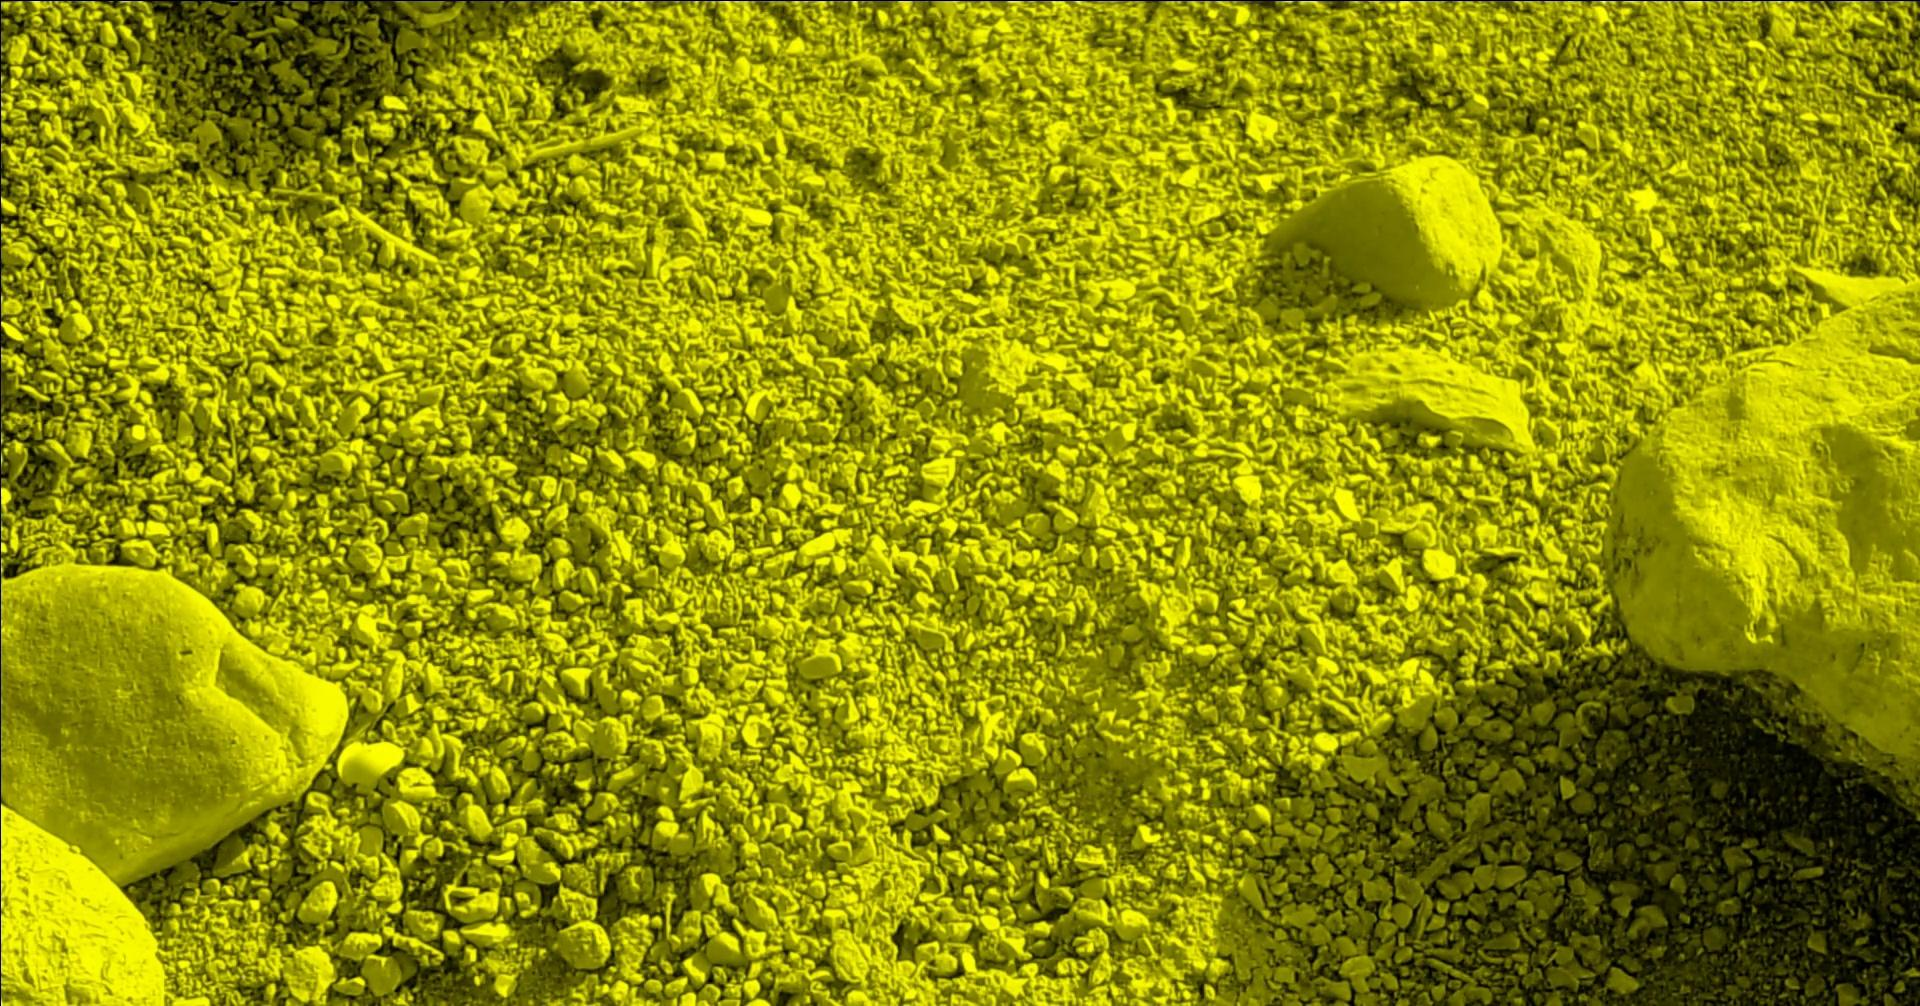ant: (455, 0, 516, 3)
